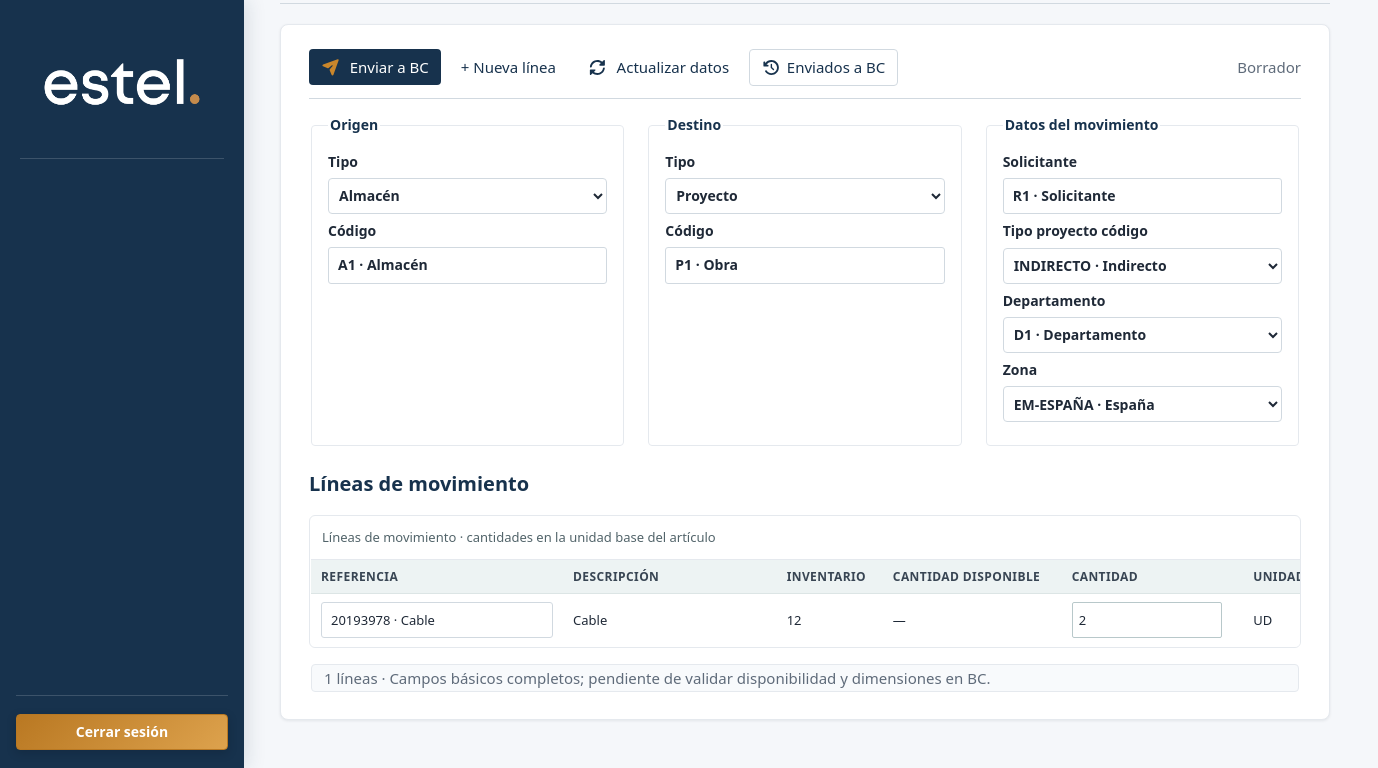
Scenario: recupera borrador, completa descripción y unidad sin habilitar registros no soportados
(page scrolled)
Expected: the button "+ Nueva línea" is enabled, [449,50,568,86]
Expected: the text "Cable" is shown, [563,594,777,646]
Replace the text in the number field named "Cantidad línea 1" with "-2" at (1147, 620), box [1072,602,1222,638]
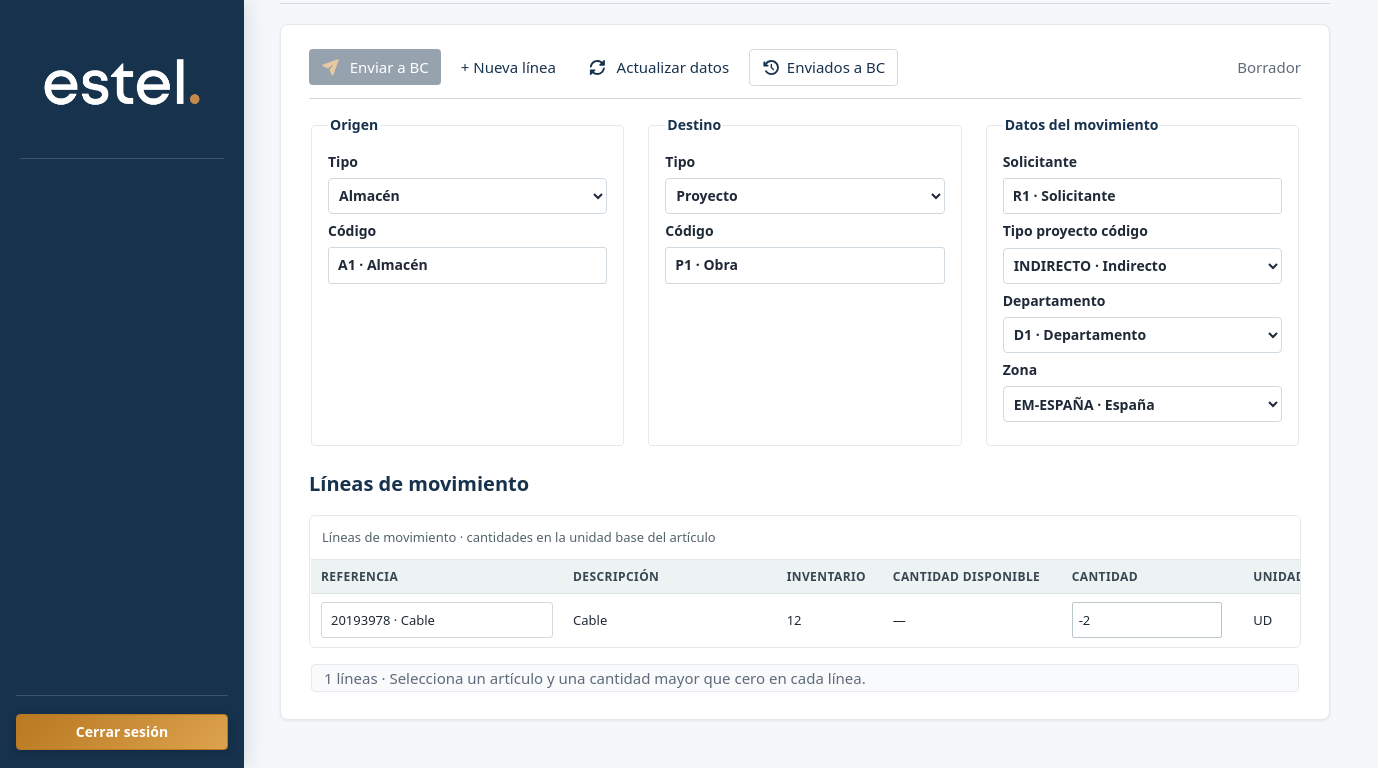
Result: the text "Selecciona un artículo y una cantidad mayor" is shown at [389,668,866,688]
